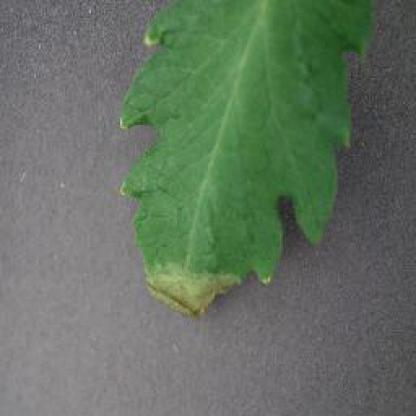bad leaf: (94, 0, 382, 325)
